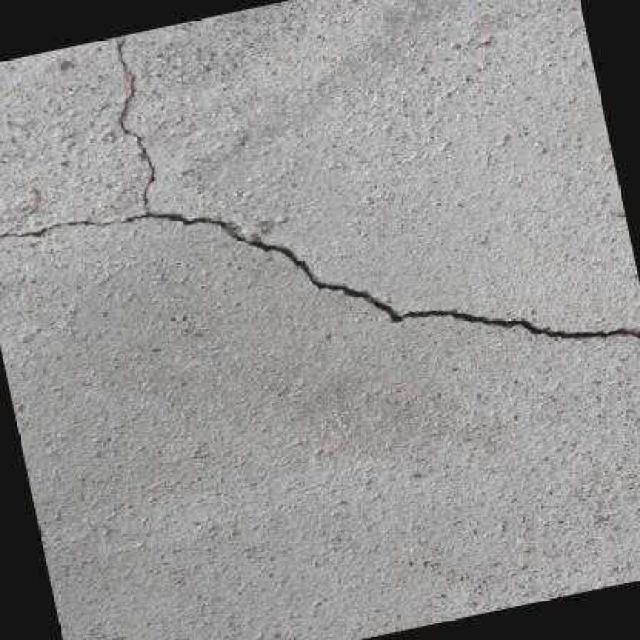D00: (0, 35, 640, 341)
